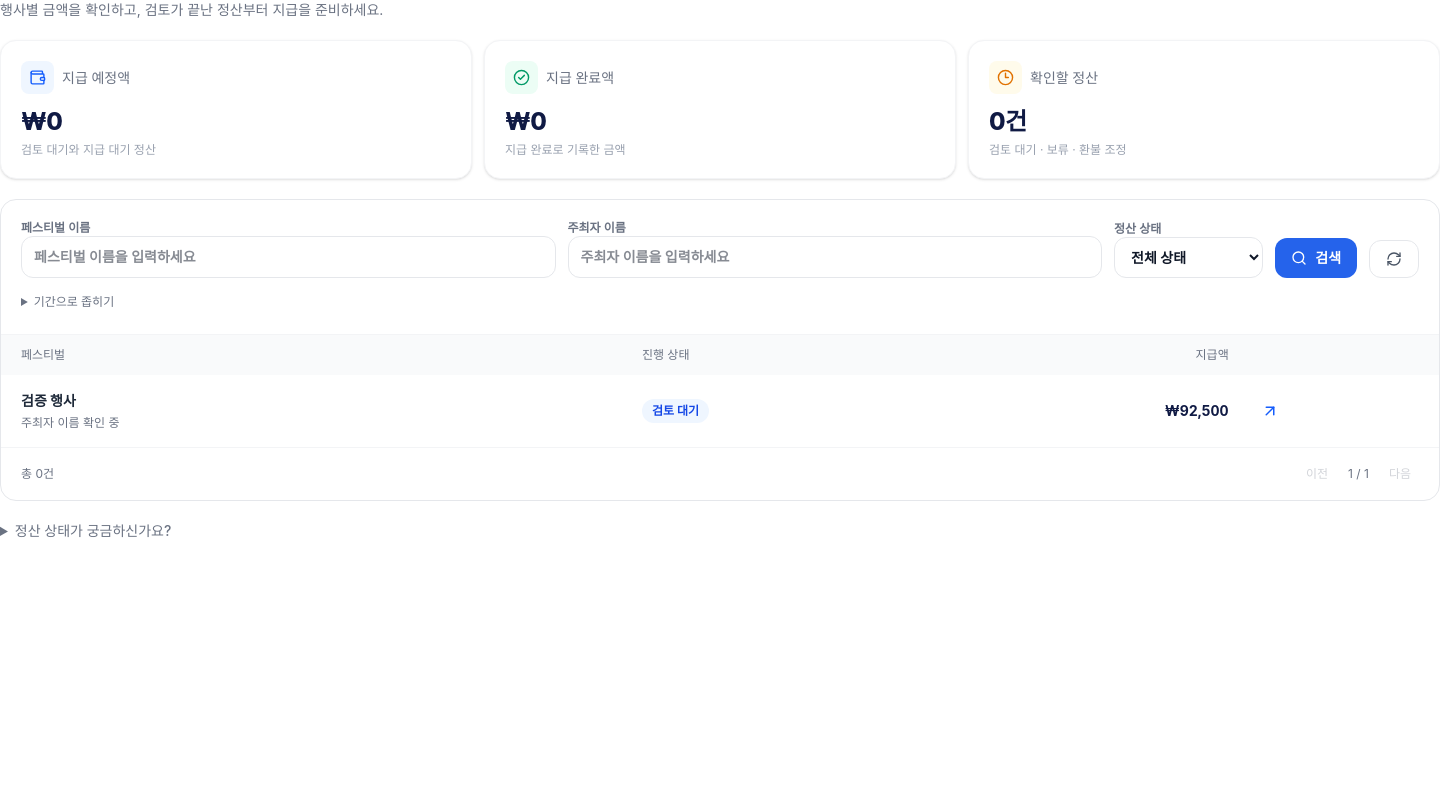
Scenario: SettlementReport › keeps audit history collapsed and closes detail accessibly
Click the button named "검증 행사 상세".
click(1270, 411)  # box [1253,394,1287,428]
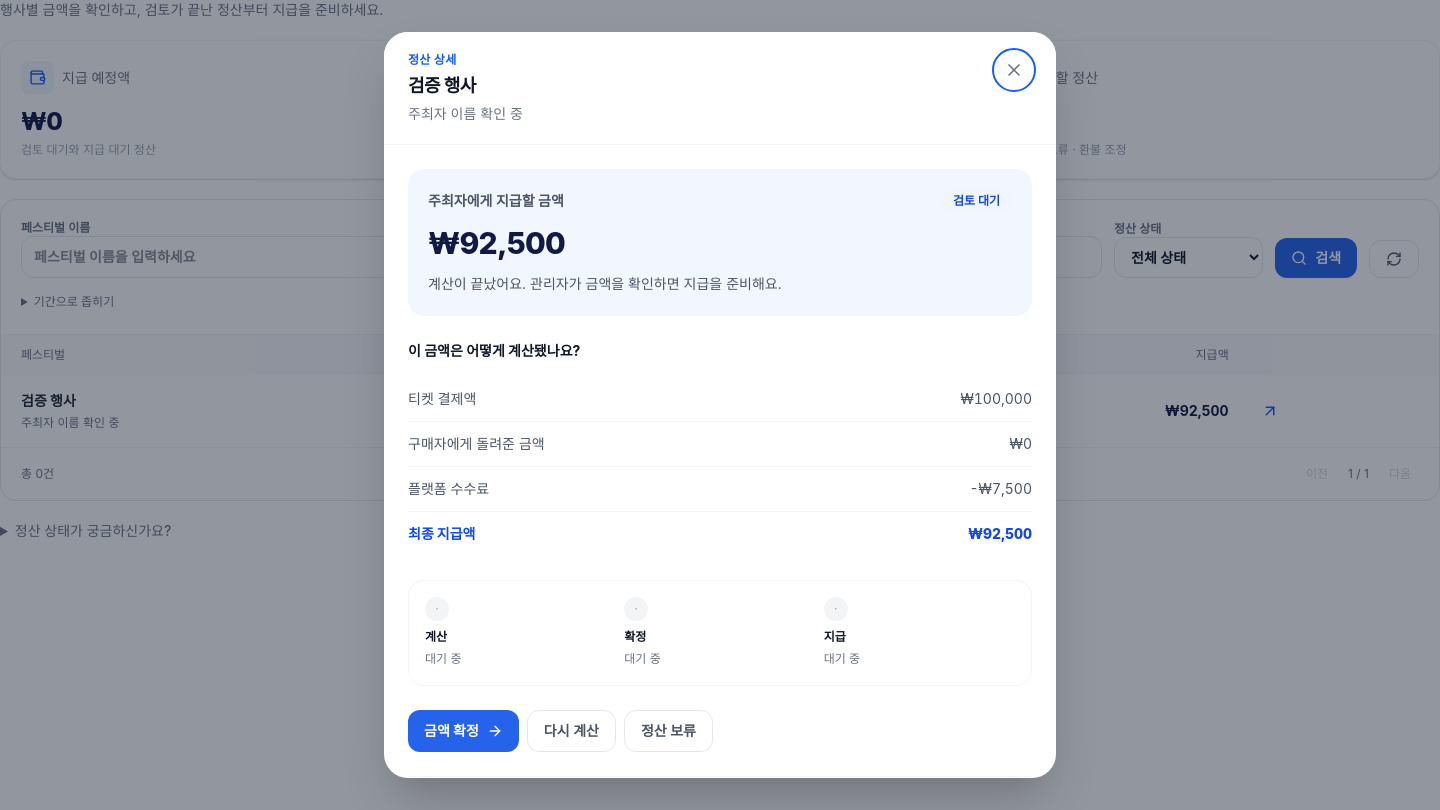
Check: the dialog shows "주최자에게 지급할 금액", box [428,192,564,209]
Click the button named "상세 닫기".
click(1014, 70)  # box [996,52,1032,88]
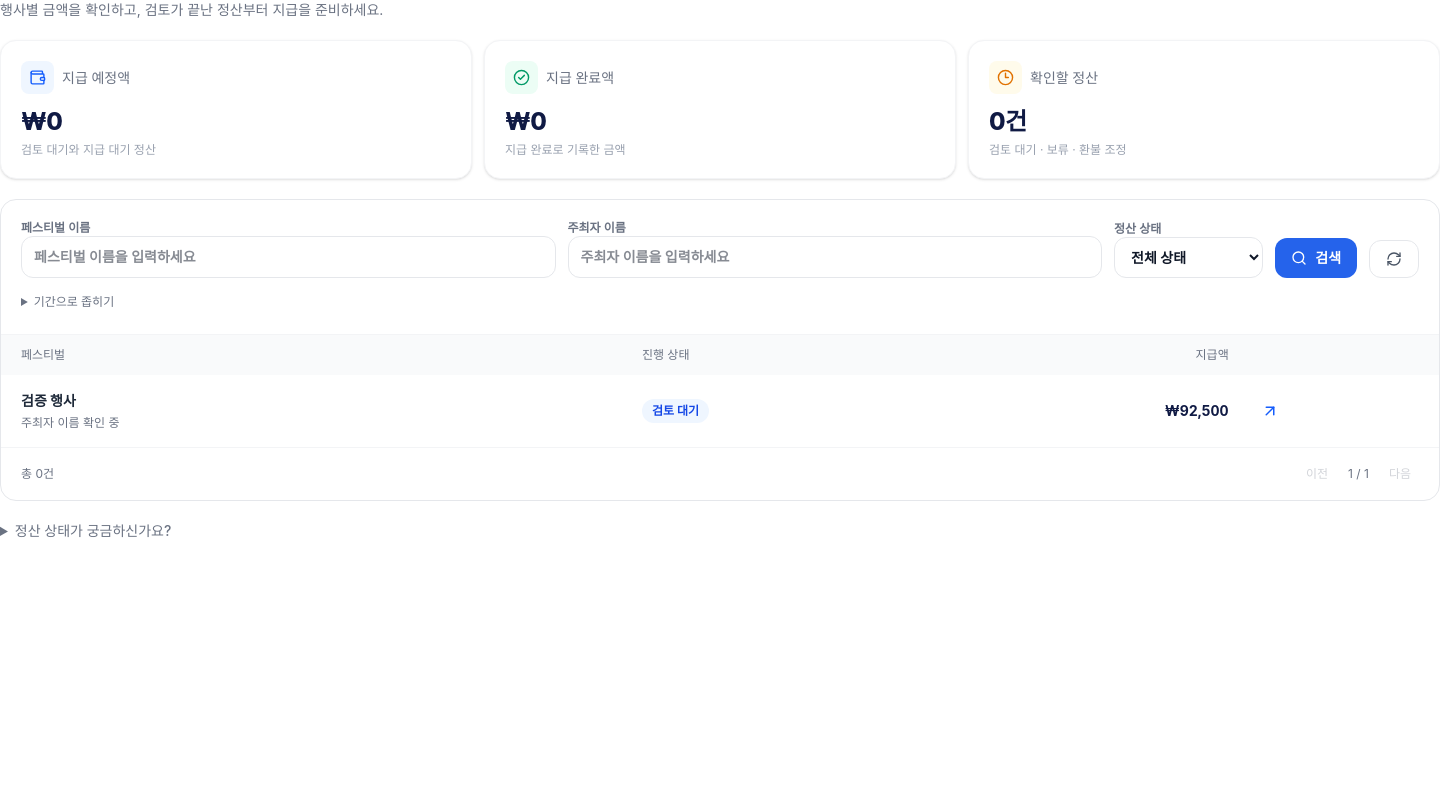
Check: the dialog is gone
